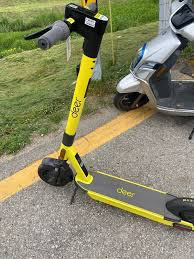kick_board: (26, 4, 194, 228)
kick_handler: (24, 4, 108, 55)
kick_neck: (61, 59, 95, 153)
kick_wheel: (36, 158, 72, 185)
